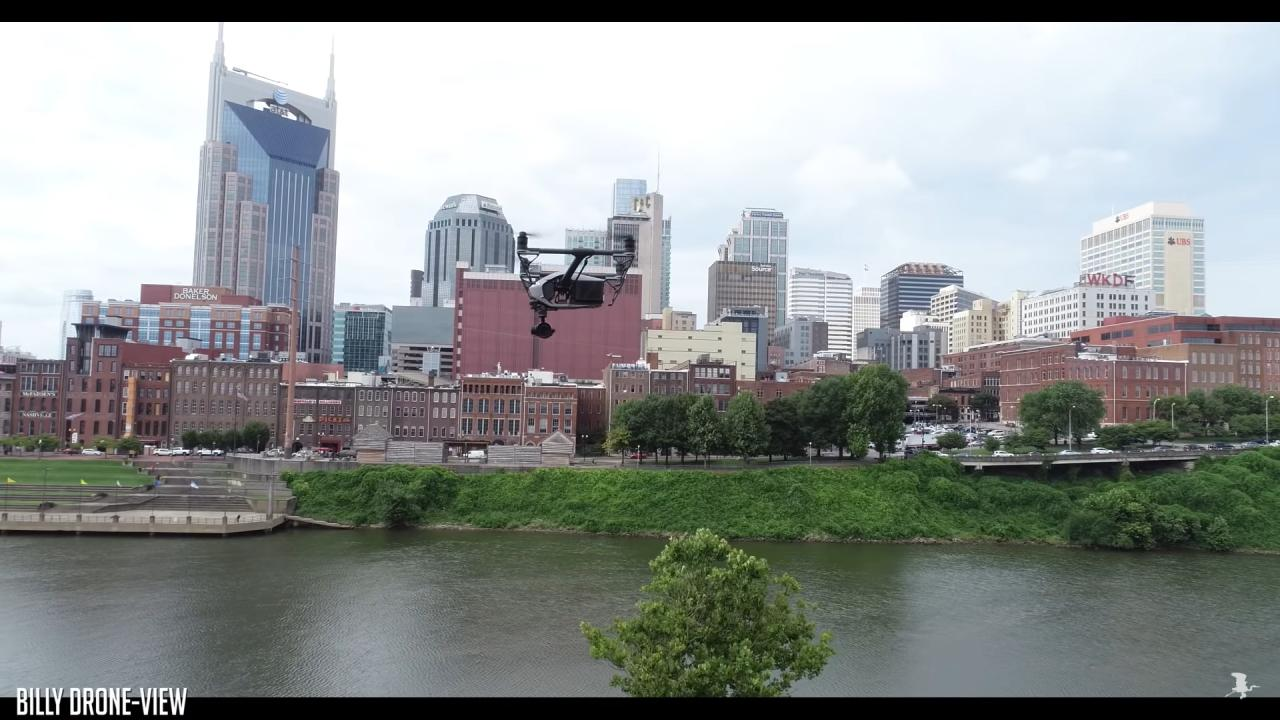Drone: (496, 218, 652, 350)
